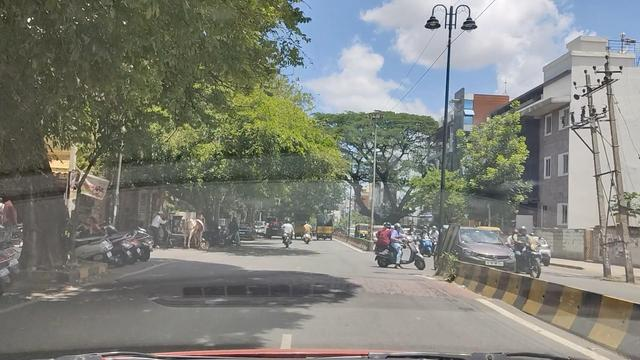LMV: (380, 223, 421, 270)
